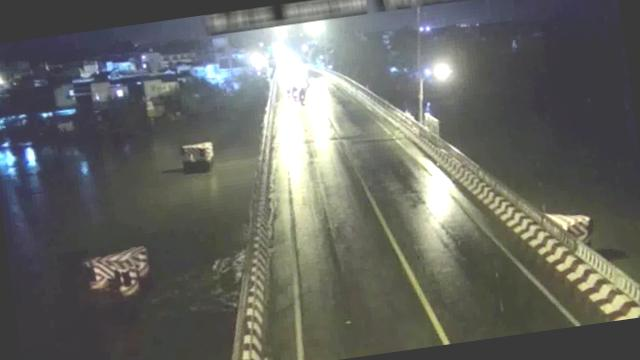Bike: (296, 82, 308, 105)
